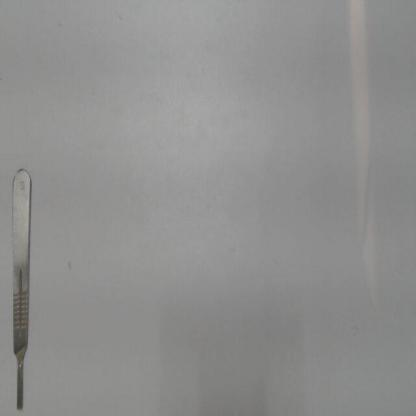No.4 BP Handle: (8, 158, 40, 413)
